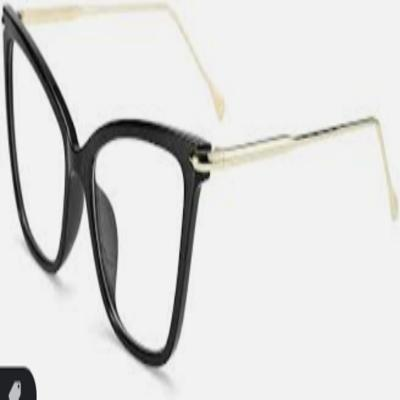glasses: (1, 1, 400, 370)
